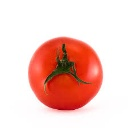tomato: (29, 35, 103, 110)
